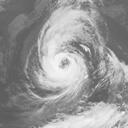cyclone: (37, 5, 100, 103)
